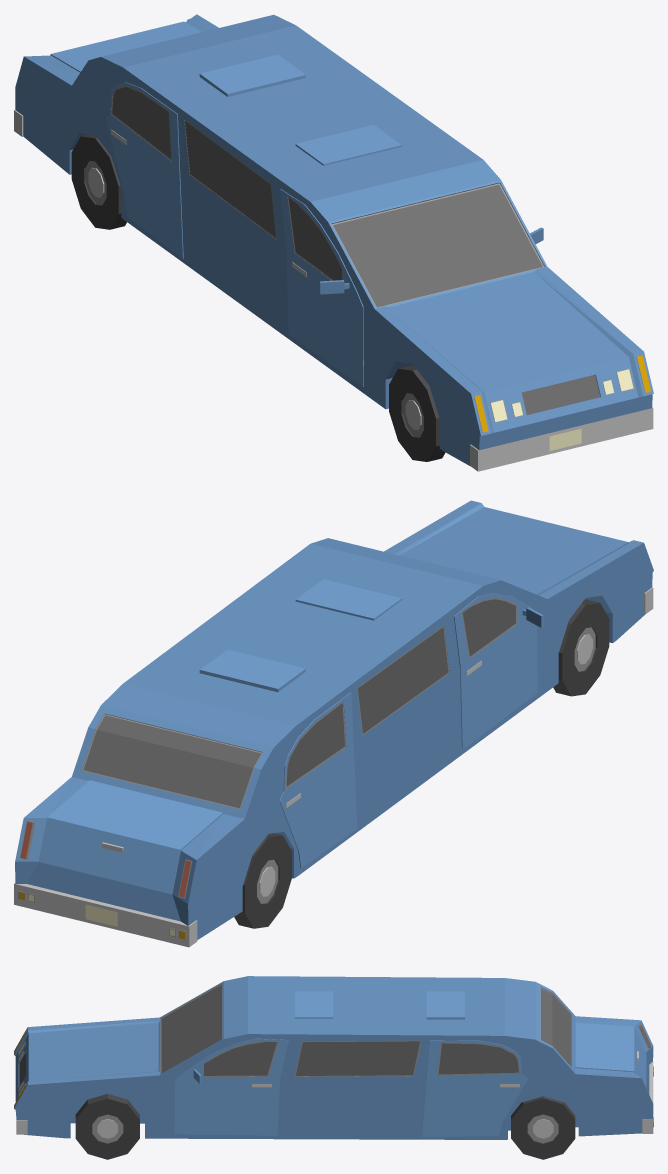
File: limousine.fbx
3 views of the same model, one above another, from view 1: azimuth 30°, elevation 25°; view 2: azimuth 150°, elevation 25°; view 3: azimuth 270°, elevation 25° (orthographic). The views are drawn at different scales.
Visible parts, largest first — view 1: et, Cylinder_2_1, Cylinder_2_3; view 2: et, Cylinder_2_1, Cylinder_2_3; view 3: et, Cylinder_2, Cylinder_2_2.
Boxes of the visible parts, <box> form: et: <box>14,14,653,471</box>; Cylinder_2_1: <box>389,365,445,461</box>; Cylinder_2_3: <box>71,134,126,229</box>; et: <box>14,500,653,947</box>; Cylinder_2_1: <box>553,599,609,696</box>; Cylinder_2_3: <box>234,833,291,928</box>; et: <box>14,976,653,1139</box>; Cylinder_2: <box>75,1093,139,1159</box>; Cylinder_2_2: <box>511,1096,575,1159</box>.
Bounding box in the file's own units: 169 × 133 × 612.
